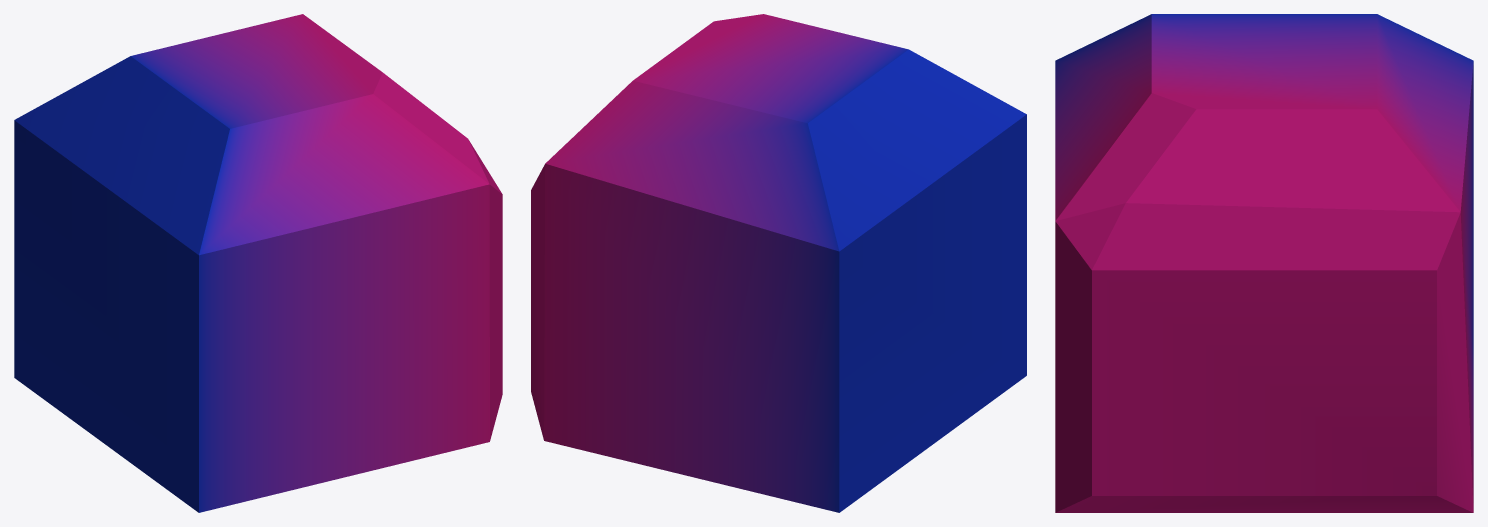
File: myshape.obj
3 views of the same model, side by side, from view 1: azimuth 30°, elevation 25°; view 2: azimuth 150°, elevation 25°; view 3: azimuth 270°, elevation 25° (orthographic). The views are drawn at different scales.
Visible parts, largest first — view 1: Cube; view 2: Cube; view 3: Cube.
Part boxes in pixels (<box>): Cube: <box>14,14,502,512</box>; Cube: <box>531,14,1026,512</box>; Cube: <box>1055,14,1473,512</box>.
Size of the model in its own units: 2 by 2 by 2.
